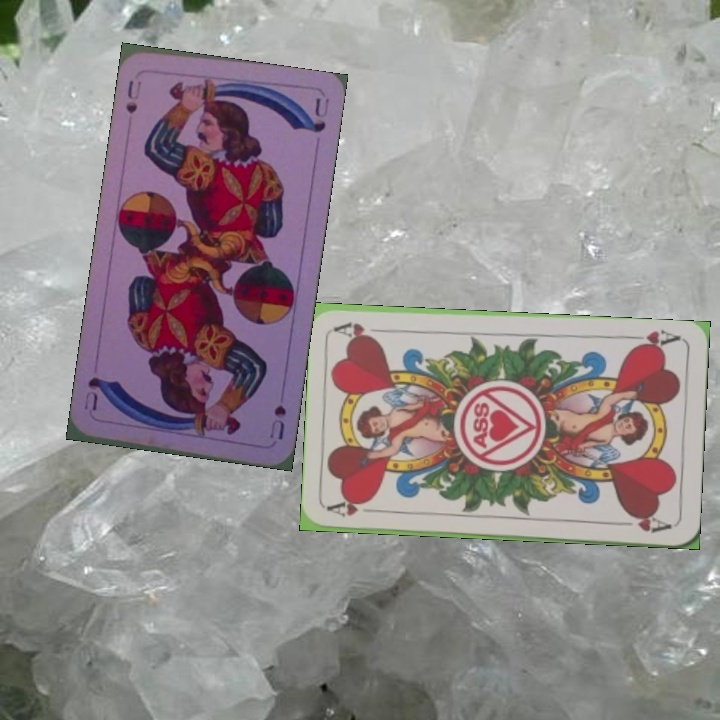HA: (624, 326, 683, 353), (325, 497, 384, 520)
SU: (266, 400, 289, 443), (121, 76, 140, 117)
